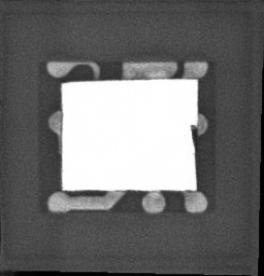DIE_BROKEN: (188, 123, 197, 147)
